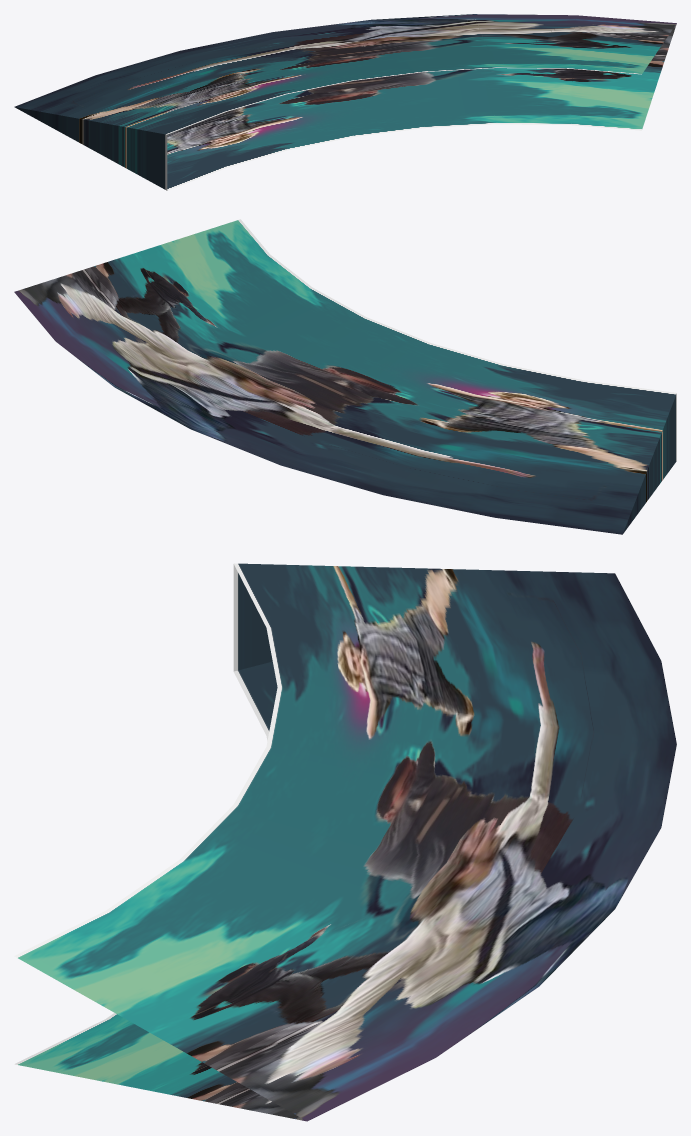
Rendered from SwordSlashThin_head.fbx.
The picture shows the model from 3 angles, top to bottom: view 1: azimuth 30°, elevation 25°; view 2: azimuth 150°, elevation 25°; view 3: azimuth 270°, elevation 25°; orthographic projection. The views are drawn at different scales.
Parts seen in each view (by area): view 1: SwordSlash_finatrail; view 2: SwordSlash_finatrail; view 3: SwordSlash_finatrail.
Part boxes in pixels (bbox=[...]): SwordSlash_finatrail: bbox=[14, 14, 676, 190]; SwordSlash_finatrail: bbox=[14, 219, 676, 534]; SwordSlash_finatrail: bbox=[14, 563, 676, 1121].
Size of the model in its own units: 163 by 15.01 by 83.33.
Materials: 1 (1 with a texture image).
